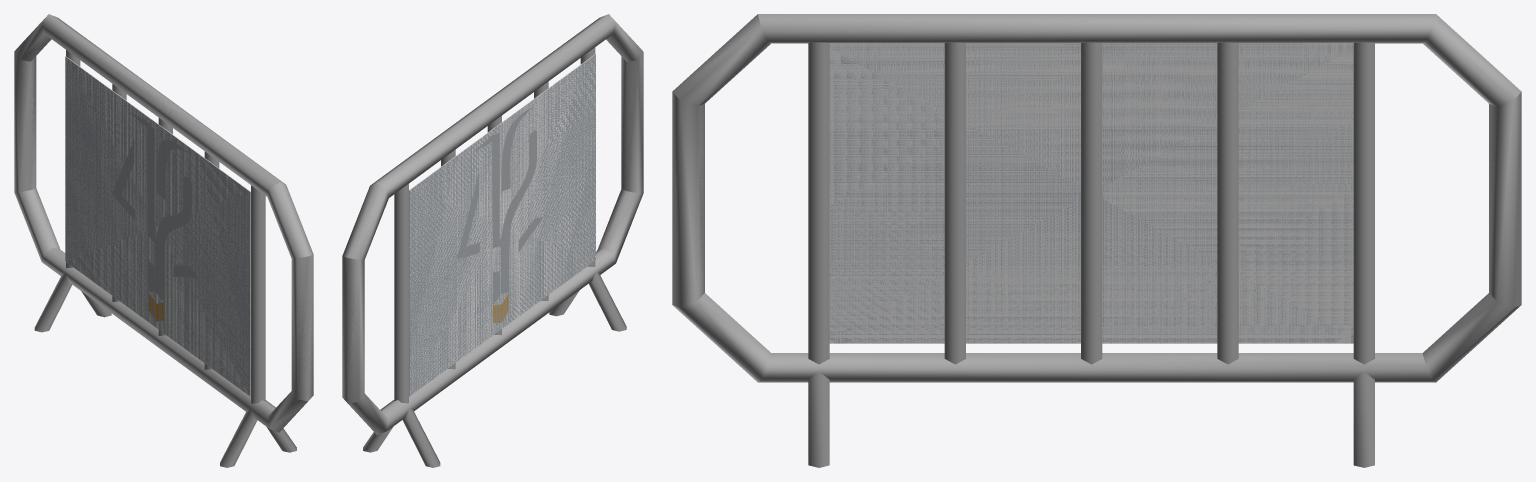
The model's file is grade_03.fbx.
3 renders of one model, left to right at view 1: azimuth 30°, elevation 25°; view 2: azimuth 150°, elevation 25°; view 3: azimuth 270°, elevation 25°, orthographic. The views are drawn at different scales.
Parts seen in each view (by area): view 1: Group14, Group6, Group13, Group11, Group5, Group10; view 2: Group14, Group6, Group8, Group11, Group5, Group4; view 3: Group14, Group6, Group2, Group7, Group8, Group12, Group13, Group10, Group4.
Boxes of the visible parts, x1,y1,x2,y2 form: Group14: (65, 56, 250, 396); Group6: (14, 14, 313, 432); Group13: (251, 185, 265, 403); Group11: (220, 408, 257, 467); Group5: (34, 273, 72, 332); Group10: (267, 427, 296, 452); Group14: (409, 54, 595, 396); Group6: (342, 14, 643, 435); Group8: (394, 184, 408, 403); Group11: (588, 272, 626, 331); Group5: (402, 408, 440, 467); Group4: (363, 426, 393, 452); Group14: (829, 43, 1353, 343); Group6: (672, 14, 1521, 382); Group2: (944, 42, 965, 364); Group7: (1081, 42, 1102, 364); Group8: (1353, 42, 1374, 364); Group12: (1217, 42, 1238, 364); Group13: (808, 42, 829, 364); Group10: (808, 372, 829, 467); Group4: (1353, 372, 1374, 467).
Size of the model in its own units: 1.15 by 4.13 by 7.45.
